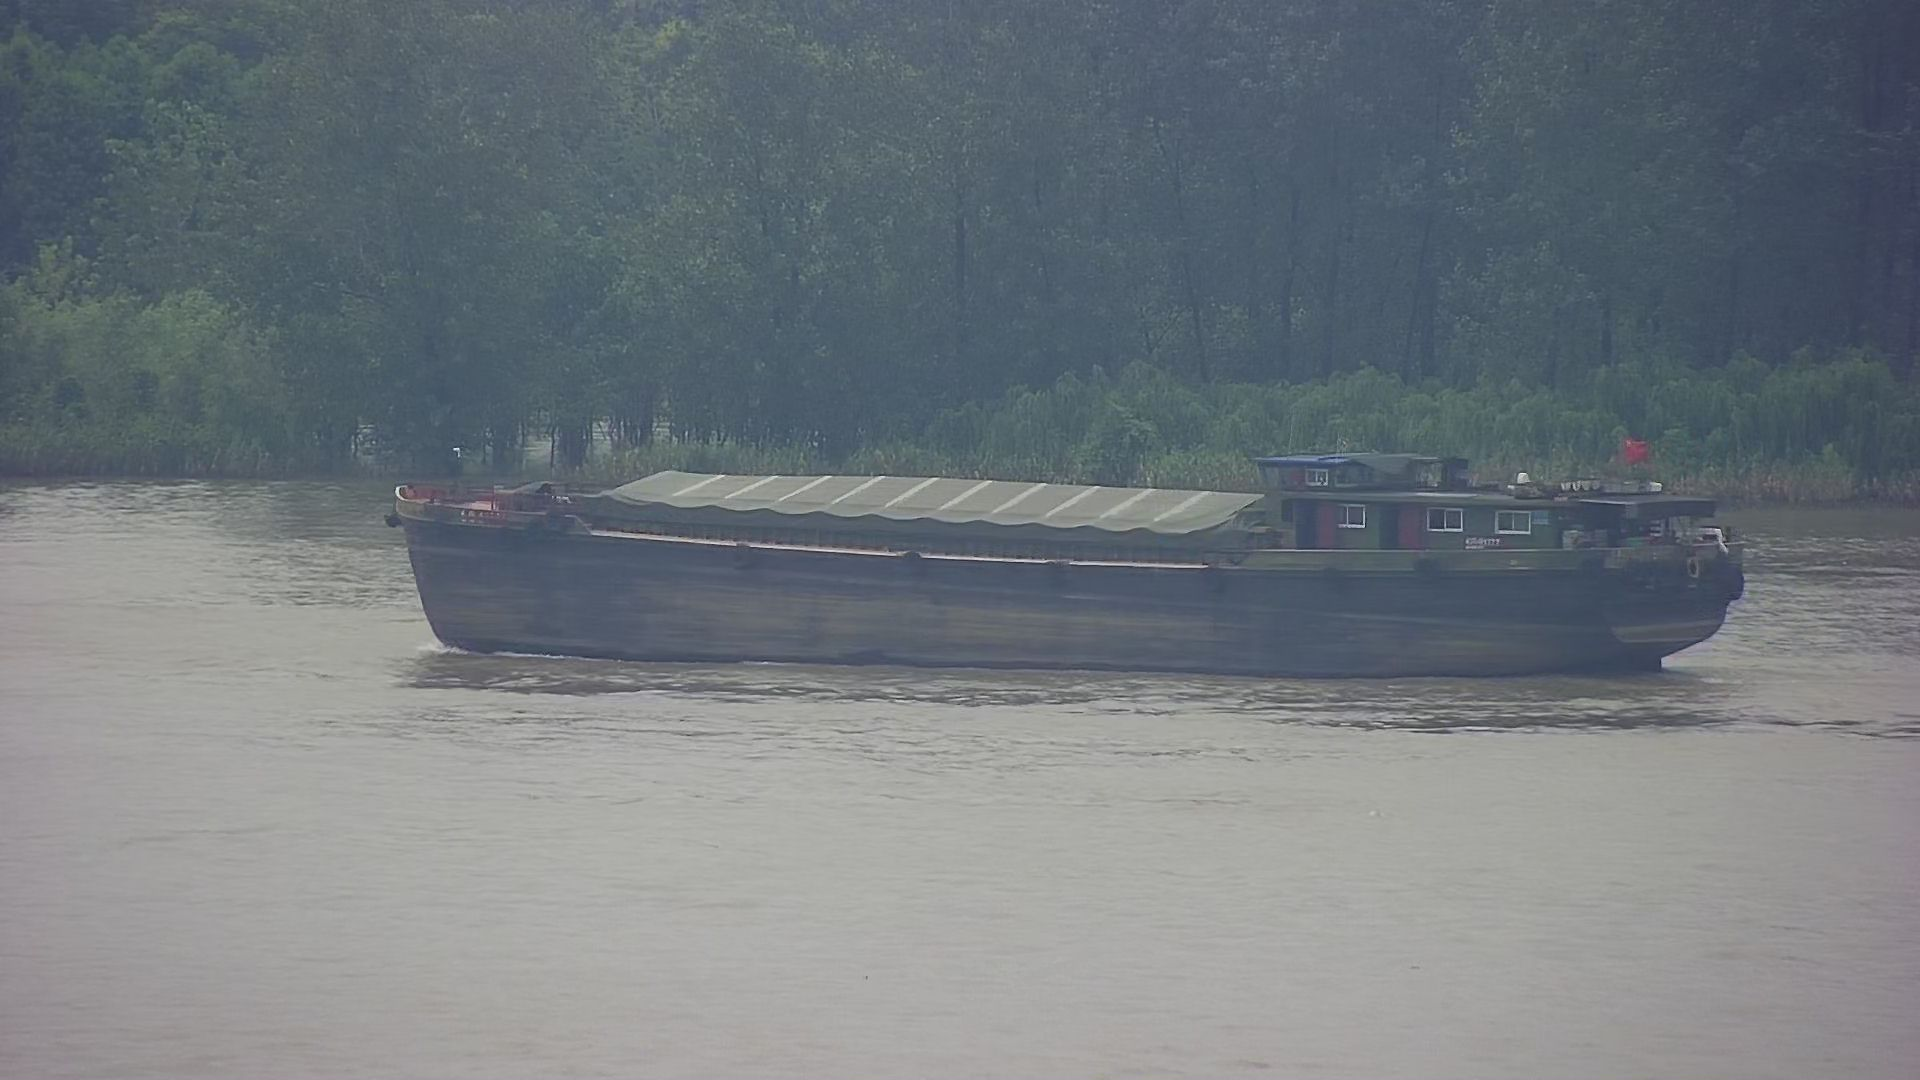ship: (364, 431, 1760, 700)
